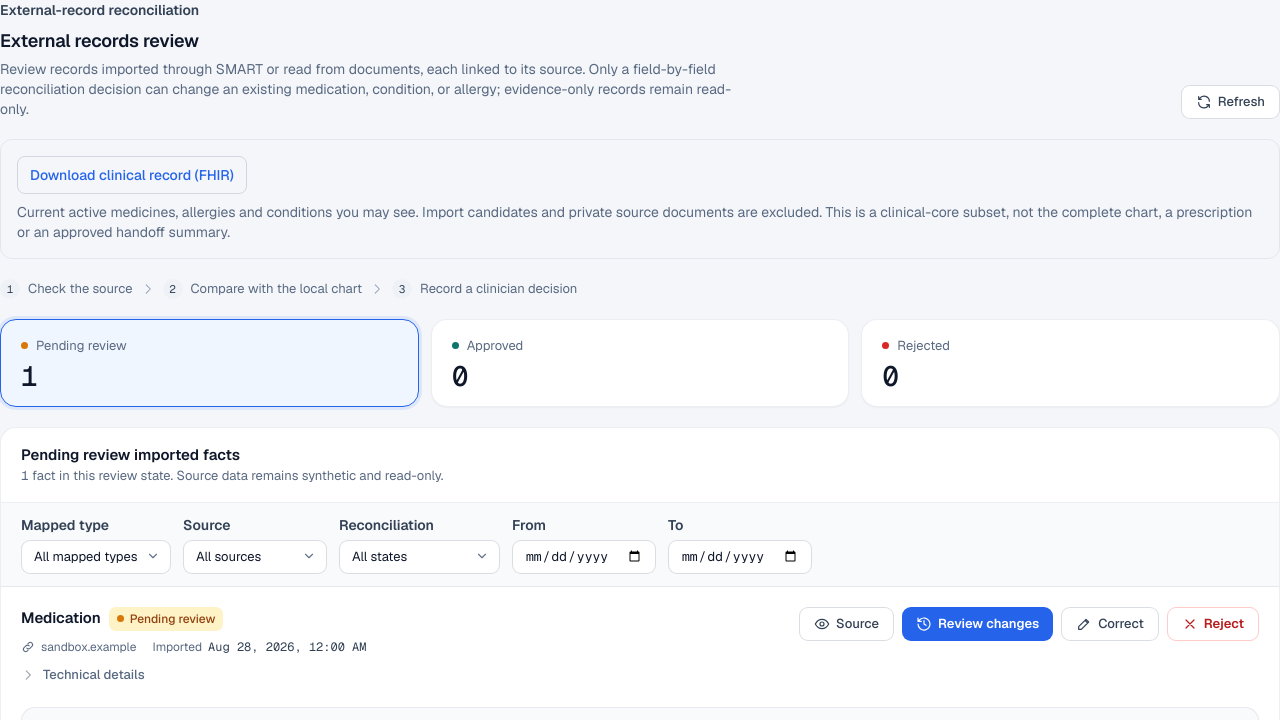
SMART import review panel › filters candidates by mapped type and presents field-level correction
Step 1. Select "Medication (1)" in the dropdown named "filter imported facts by mapped type" → (96, 556), box x1=21 y1=540 x2=171 y2=574
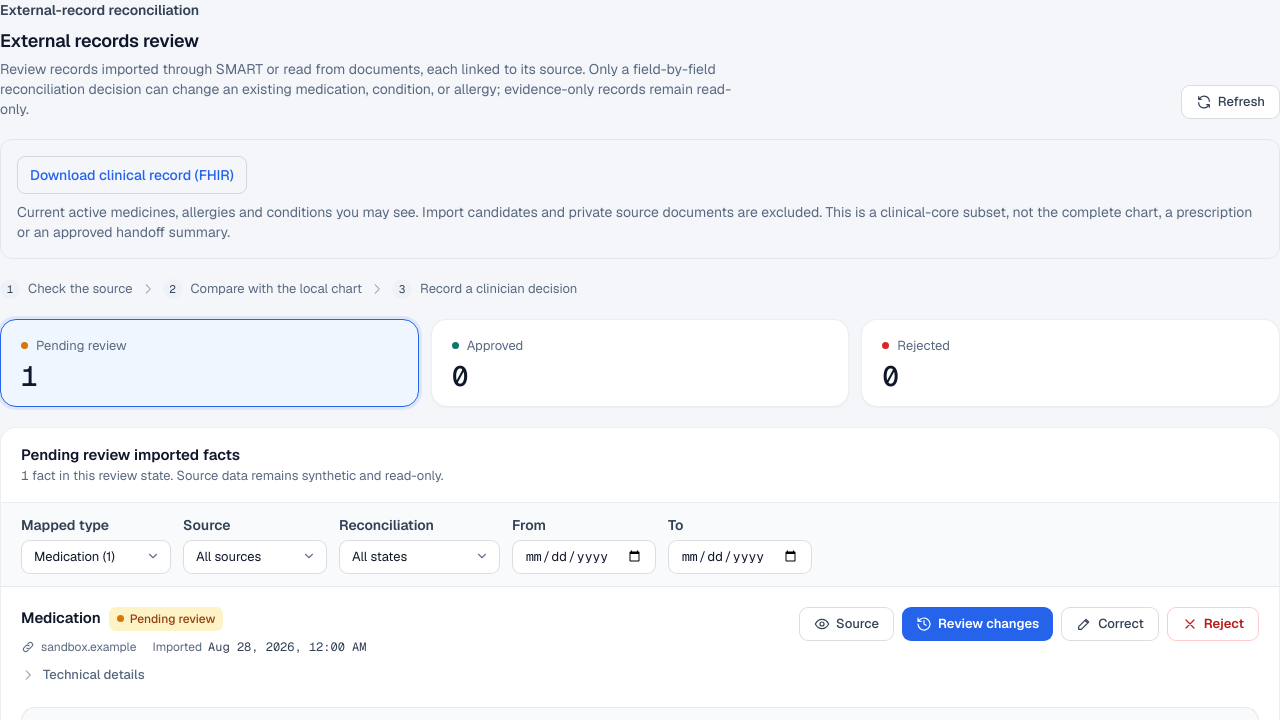
Step 2. Click the button "Correct" → (1110, 624), box x1=1061 y1=606 x2=1159 y2=640
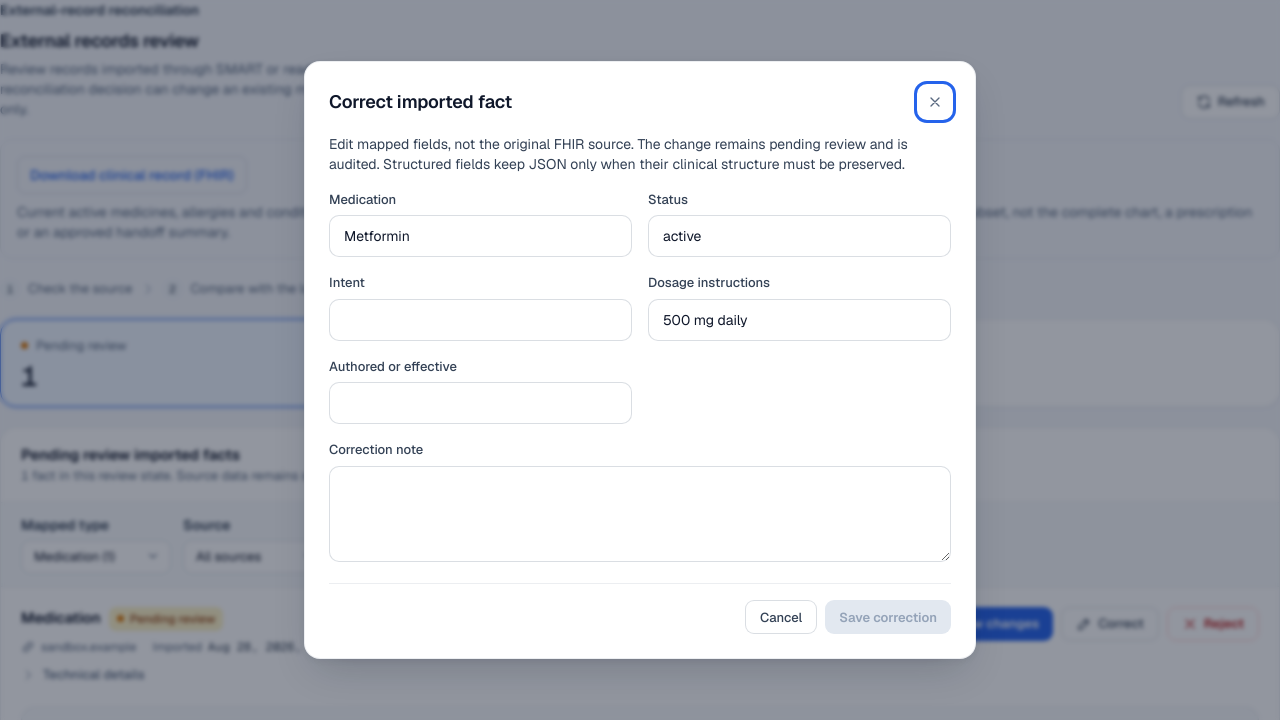
Now the field labelled "Medication" holds "Metformin", box x1=329 y1=215 x2=632 y2=257
Now the field labelled "Dosage instructions" holds "500 mg daily", box x1=648 y1=299 x2=951 y2=341
